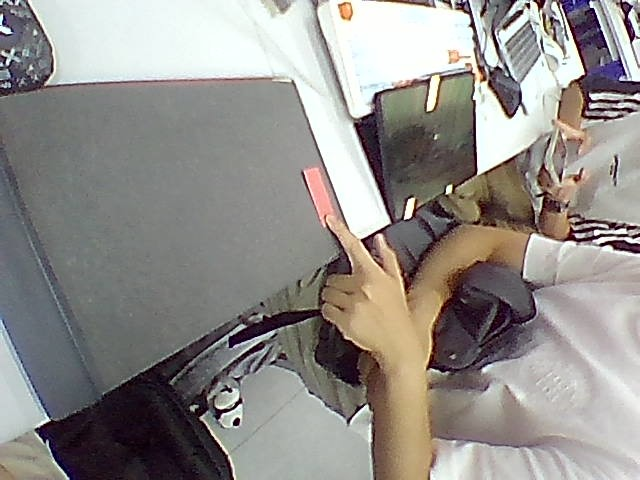card: (303, 167, 335, 225)
